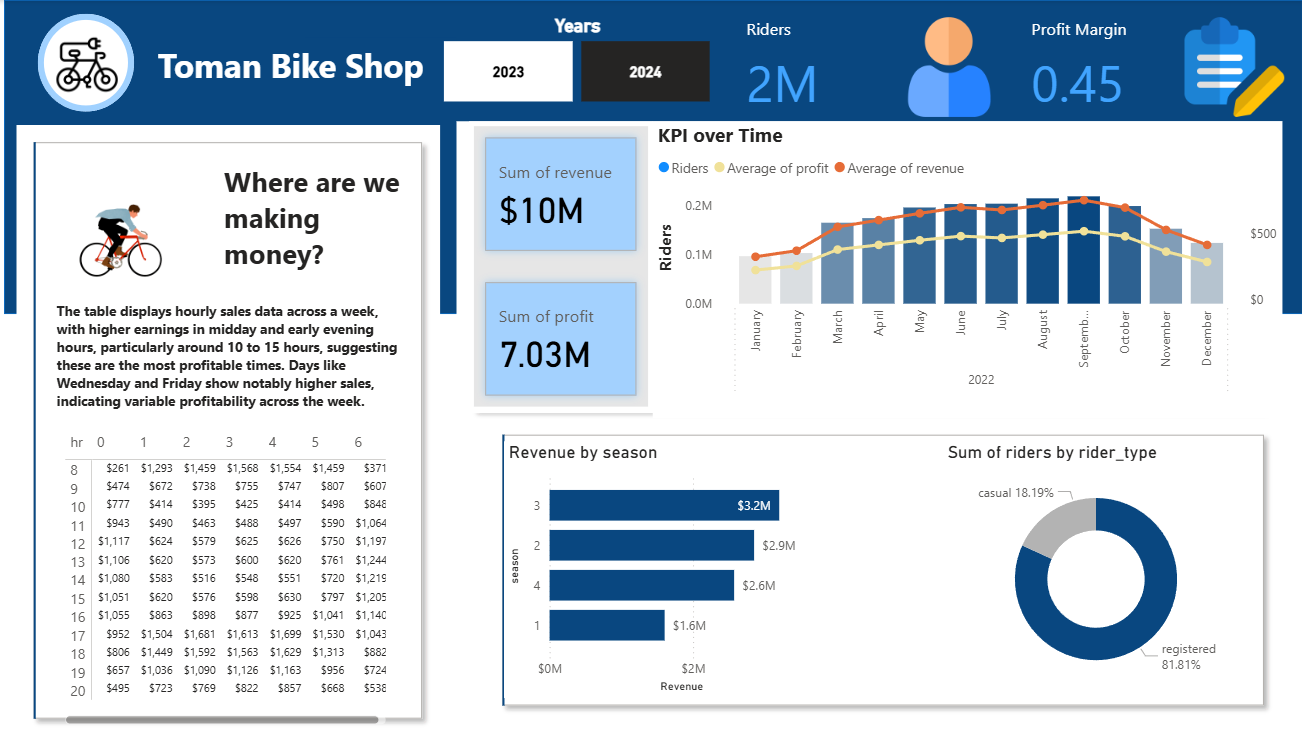

Layout of this report page (visuals, bound fields, positions):
{"tool":"powerbi","page":{"name":"Page 1","canvas":[1280,720],"ordinal":0},"visuals":[{"type":"shape","box":[9.6,0,1270.7,307.4],"z":0},{"type":"cardVisual","fields":{"Data":["Sum(Query1.price)"]},"box":[22,122.1,414.4,598.3],"z":1000},{"type":"cardVisual","fields":{"Data":["Sum(Query1.price)"]},"box":[480.3,408.9,779.4,299.1],"z":2000},{"type":"cardVisual","fields":{"Data":["Sum(Query1.profit)"]},"box":[44.3,144.3,161.4,162.9],"z":3000},{"type":"pivotTable","fields":{"Values":["Avg(Query1.revenue)"],"Columns":["Query1.weekday"],"Rows":["Query1.hr"]},"box":[69.7,418.2,331.4,295.9],"z":4000},{"type":"textbox","box":[220,154.3,192.9,135.7],"z":5000},{"type":"barChart","fields":{"Category":["Query1.season"],"Y":["Sum(Query1.revenue)"]},"box":[499.1,431.9,320.8,250.9],"z":6000},{"type":"donutChart","fields":{"Category":["Query1.rider_type"],"Y":["Sum(Query1.riders)"]},"box":[928.2,431.9,300.3,250.9],"z":7000},{"type":"cardVisual","fields":{"Data":["Sum(Query1.price)"]},"box":[452.9,118.6,807.1,300],"z":8000},{"type":"cardVisual","fields":{"Data":["Sum(Query1.revenue)","Sum(Query1.profit)"]},"box":[464.3,118.6,180,285.7],"z":9000},{"type":"lineClusteredColumnComboChart","title":"KPI over Time","fields":{"Y":["Sum(Query1.riders)"],"Category":["Query1.dteday.Variation.Date Hierarchy.Year","Query1.dteday.Variation.Date Hierarchy.Month"],"Y2":["Avg(Query1.profit)","Avg(Query1.revenue)"]},"box":[644.3,118.6,615.7,290],"z":10000},{"type":"cardVisual","fields":{"Data":["Sum(Query1.riders)","Query1.Profit Margin"]},"box":[718.6,0,561.4,121.4],"z":11000},{"type":"shape","box":[42.9,12.9,94.3,95.7],"z":12000},{"type":"textbox","box":[155.7,37.1,297.1,55.7],"z":13000},{"type":"image","box":[55.7,21.4,70,82.9],"z":14000},{"type":"advancedSlicerVisual","fields":{"Values":["Query1.Years"]},"box":[435.7,14.3,271.4,90],"z":15000},{"type":"textbox","box":[55.7,290,344.3,131.4],"z":16000}]}

Visuals, with their boxes in screenshot pixels (x1, y1, x2, y2), scaled from the page's 1280x720 canvas onto the 1302x736 screenshot:
shape: [x1=10, y1=0, x2=1301, y2=314]
cardVisual - Sum(Query1.price): [x1=22, y1=125, x2=444, y2=735]
cardVisual - Sum(Query1.price): [x1=489, y1=418, x2=1281, y2=724]
cardVisual - Sum(Query1.profit): [x1=45, y1=148, x2=209, y2=314]
pivotTable - Avg(Query1.revenue) x Query1.weekday: [x1=71, y1=427, x2=408, y2=730]
textbox: [x1=224, y1=158, x2=420, y2=296]
barChart - Query1.season x Sum(Query1.revenue): [x1=508, y1=441, x2=834, y2=698]
donutChart - Query1.rider_type x Sum(Query1.riders): [x1=944, y1=441, x2=1250, y2=698]
cardVisual - Sum(Query1.price): [x1=461, y1=121, x2=1282, y2=428]
cardVisual - Sum(Query1.revenue) x Sum(Query1.profit): [x1=472, y1=121, x2=655, y2=413]
"KPI over Time" lineClusteredColumnComboChart: [x1=655, y1=121, x2=1282, y2=418]
cardVisual - Sum(Query1.riders) x Query1.Profit Margin: [x1=731, y1=0, x2=1301, y2=124]
shape: [x1=44, y1=13, x2=140, y2=111]
textbox: [x1=158, y1=38, x2=461, y2=95]
image: [x1=57, y1=22, x2=128, y2=107]
advancedSlicerVisual - Query1.Years: [x1=443, y1=15, x2=719, y2=107]
textbox: [x1=57, y1=296, x2=407, y2=431]
